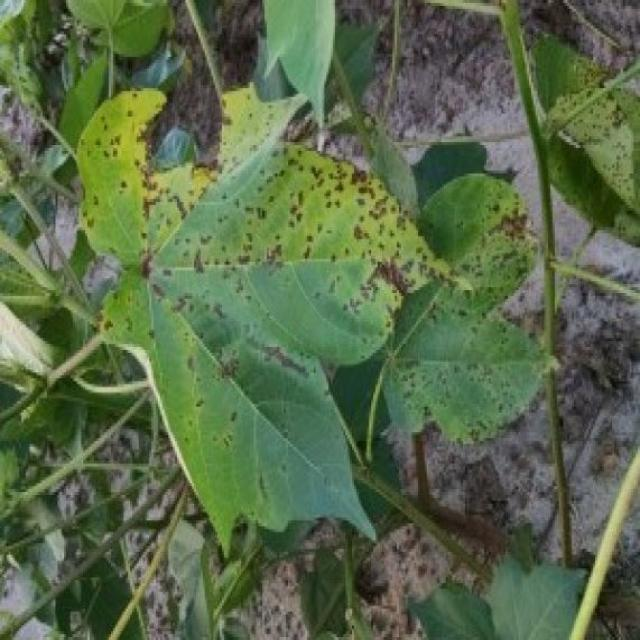Bacterial Blight: (132, 181, 411, 334)
